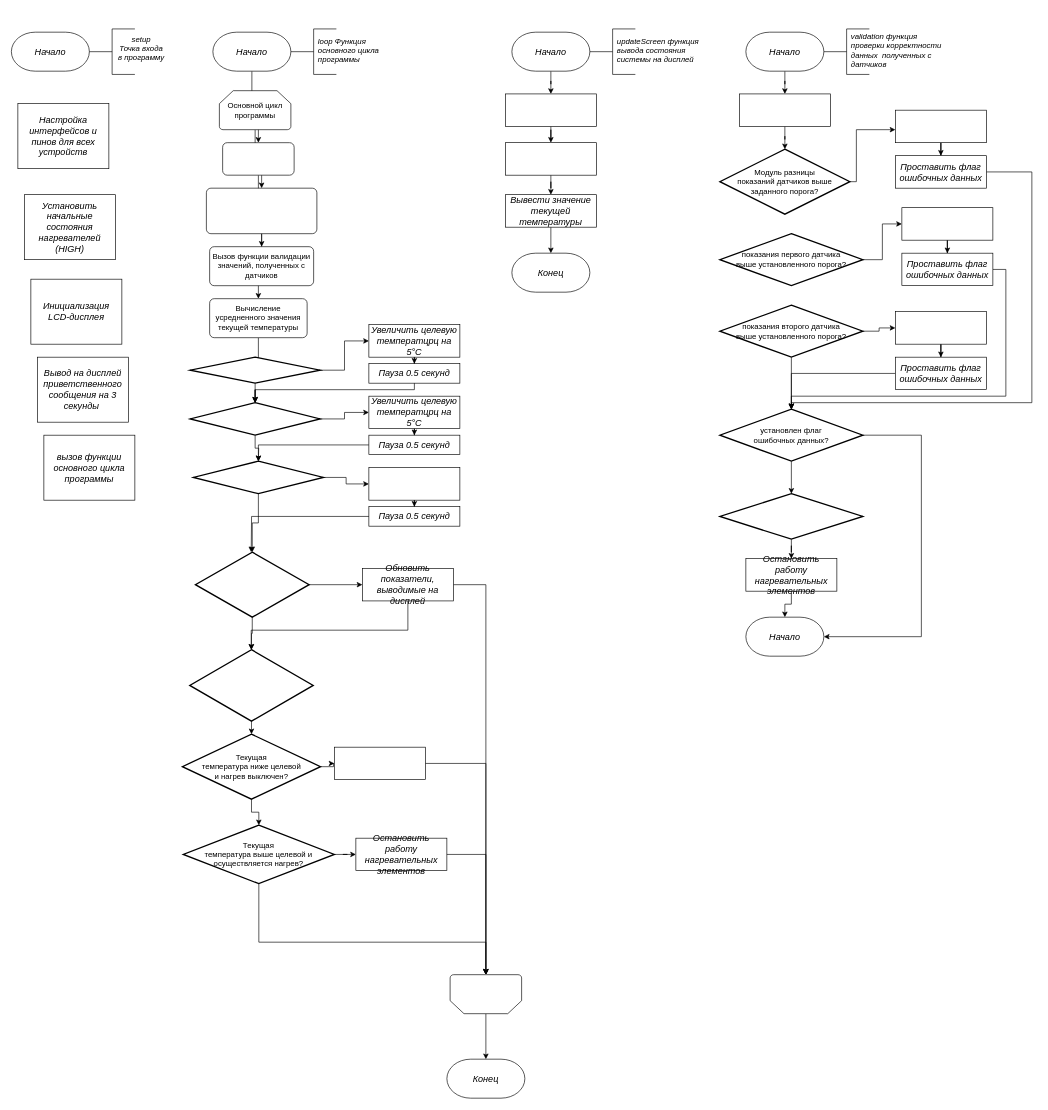
This 1048x1110 diagram has some shape labels left out. Here are the shapes that lost their labels. From the top down, the centre of each, then its label:
At point 550,109: "Очистить дисплей".
At point 784,109: "задание начальных значений флагам".
At point 940,126: "Вывести на дисплей сообщение об ошибке в работе датчиков".
At point 258,158: "Считать состояние кнопок (Up, Down, Start)".
At point 550,158: "Вывести значение целевой температуры".
At point 261,211: "Считать значения датчиков температуры (sensor35OldValue, sensor35NewValue) |".
At point 947,223: "Вывести на дисплей сообщение об ошибке в работе первого датчика".
At point 940,327: "Вывести на дисплей сообщение об ошибке в работе второго датчика".
At point 254,370: "Кнопка Up нажата и целевая температура ниже 25°C?".
At point 254,419: "Кнопка Down нажата и целевая температура выше 125 °C ?".
At point 258,477: "Кнопка Start нажата?".
At point 414,483: "Изменить значение флага поддерживания постоянной температуры на противоположное".
At point 791,516: "Активен ли процесс нагрева?".
At point 251,584: "С предыдущего обновления дисплея прошла минута?".
At point 251,685: "Режим поддержания постоянной температуры активен?".
At point 379,763: "Начать работу нагревательных элементов".
At point 485,994: "Цикл".
